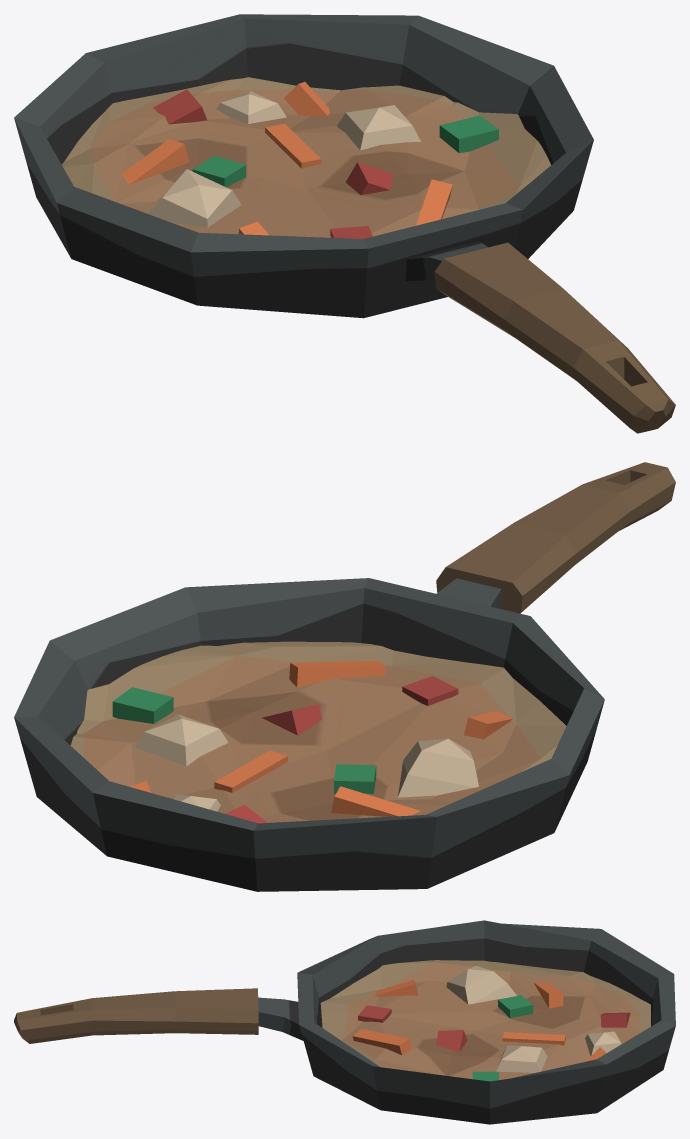
The model's file is SM_Pan.fbx.
3 views of the same model, one above another, from view 1: azimuth 30°, elevation 25°; view 2: azimuth 150°, elevation 25°; view 3: azimuth 270°, elevation 25° (orthographic). The views are drawn at different scales.
Parts seen in each view (by area): view 1: SM_Pan, SM_Pan_Food; view 2: SM_Pan, SM_Pan_Food; view 3: SM_Pan, SM_Pan_Food.
Part boxes in pixels (box(x1,y1,x2,y2)): SM_Pan: box(14, 14, 675, 433); SM_Pan_Food: box(62, 77, 550, 238); SM_Pan: box(14, 462, 675, 891); SM_Pan_Food: box(70, 641, 566, 823); SM_Pan: box(14, 920, 675, 1124); SM_Pan_Food: box(320, 960, 650, 1081).
Bounding box in the file's own units: 46.2 × 8.43 × 77.43.
